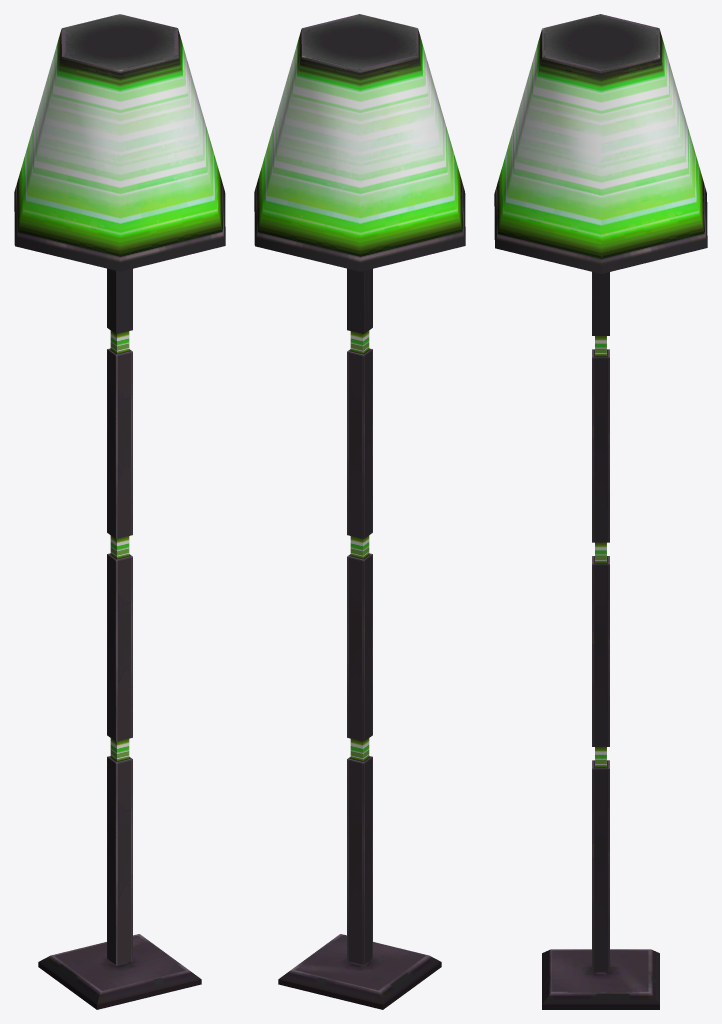
The model's file is furni_0200603_03.FBX.
3 renders of one model, left to right at view 1: azimuth 30°, elevation 25°; view 2: azimuth 150°, elevation 25°; view 3: azimuth 270°, elevation 25°, orthographic.
Parts seen in each view (by area): view 1: furni_0200603_03; view 2: furni_0200603_03; view 3: furni_0200603_03.
Part boxes in pixels (bbox=[...]): furni_0200603_03: bbox=[14, 14, 225, 1009]; furni_0200603_03: bbox=[254, 14, 465, 1009]; furni_0200603_03: bbox=[494, 14, 707, 1009].
Size of the model in its own units: 43.06 by 182 by 37.38.
1 material, 1 textured.
